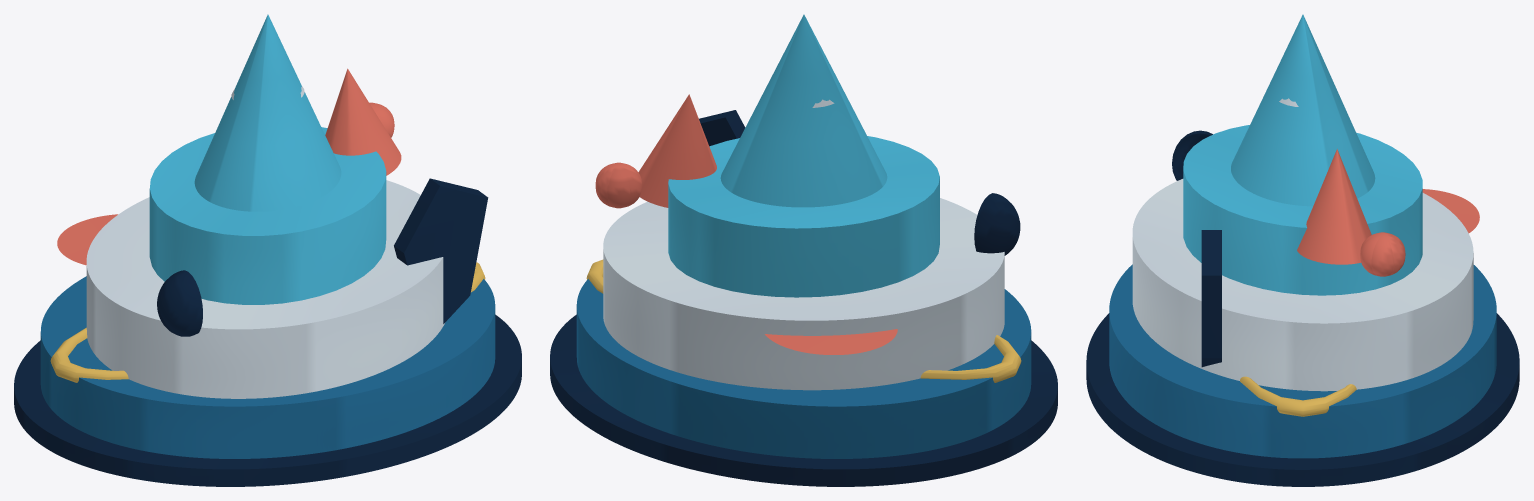
The model's file is 0647_地貌图鉴_海底地貌.glb.
3 views of the same model, side by side, from view 1: azimuth 30°, elevation 25°; view 2: azimuth 150°, elevation 25°; view 3: azimuth 270°, elevation 25° (orthographic). The views are drawn at different scales.
Visible parts, largest first — view 1: card_0647; view 2: card_0647; view 3: card_0647.
Boxes of the visible parts, <box> form: card_0647: <box>14,14,521,486</box>; card_0647: <box>550,14,1057,486</box>; card_0647: <box>1086,14,1519,486</box>.
Size of the model in its own units: 1.28 by 1 by 1.08.
